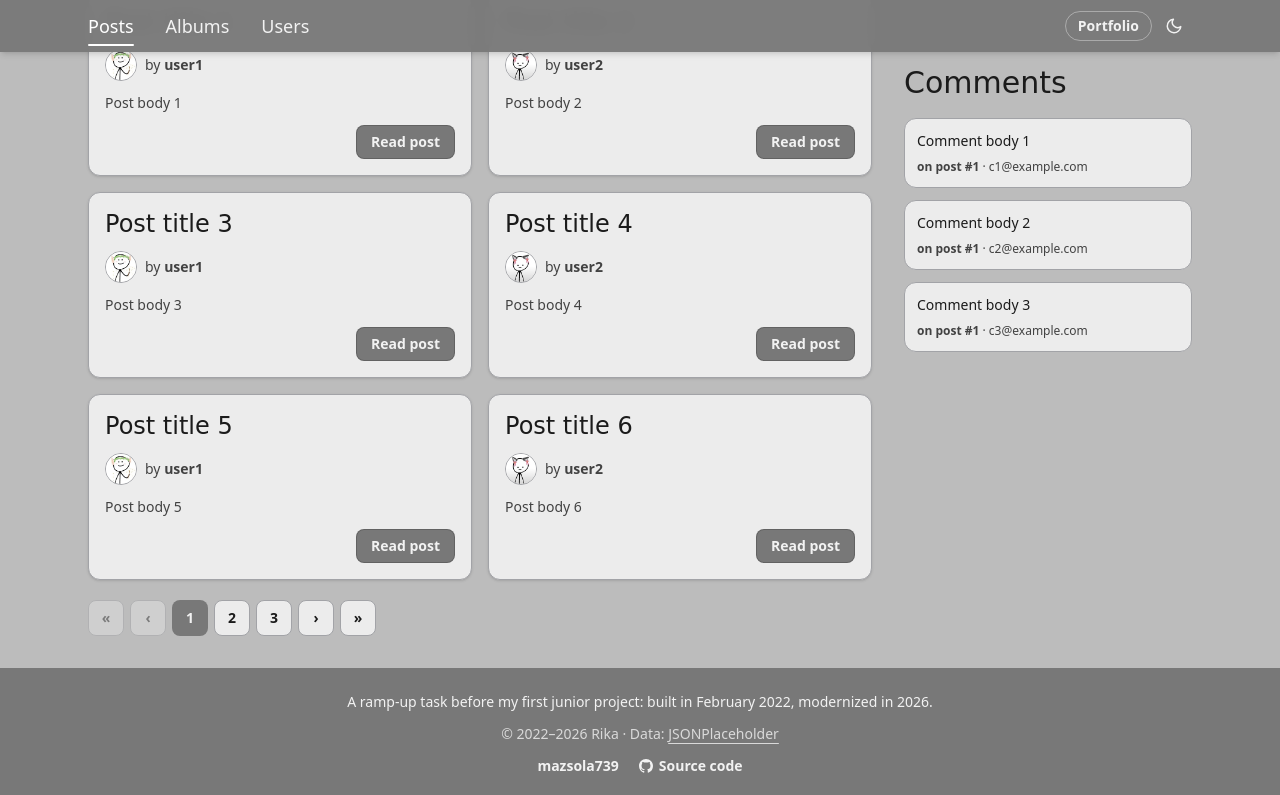
posts › opens a post with its author and its comments
The image size is (1280, 795).
(page scrolled)
Expected: the heading "post title 1" is shown, x1=105 y1=8 x2=233 y2=36
Click the link with aria-label "Read post: post title 1" at (406, 142), box x1=356 y1=125 x2=455 y2=159
(page scrolled)
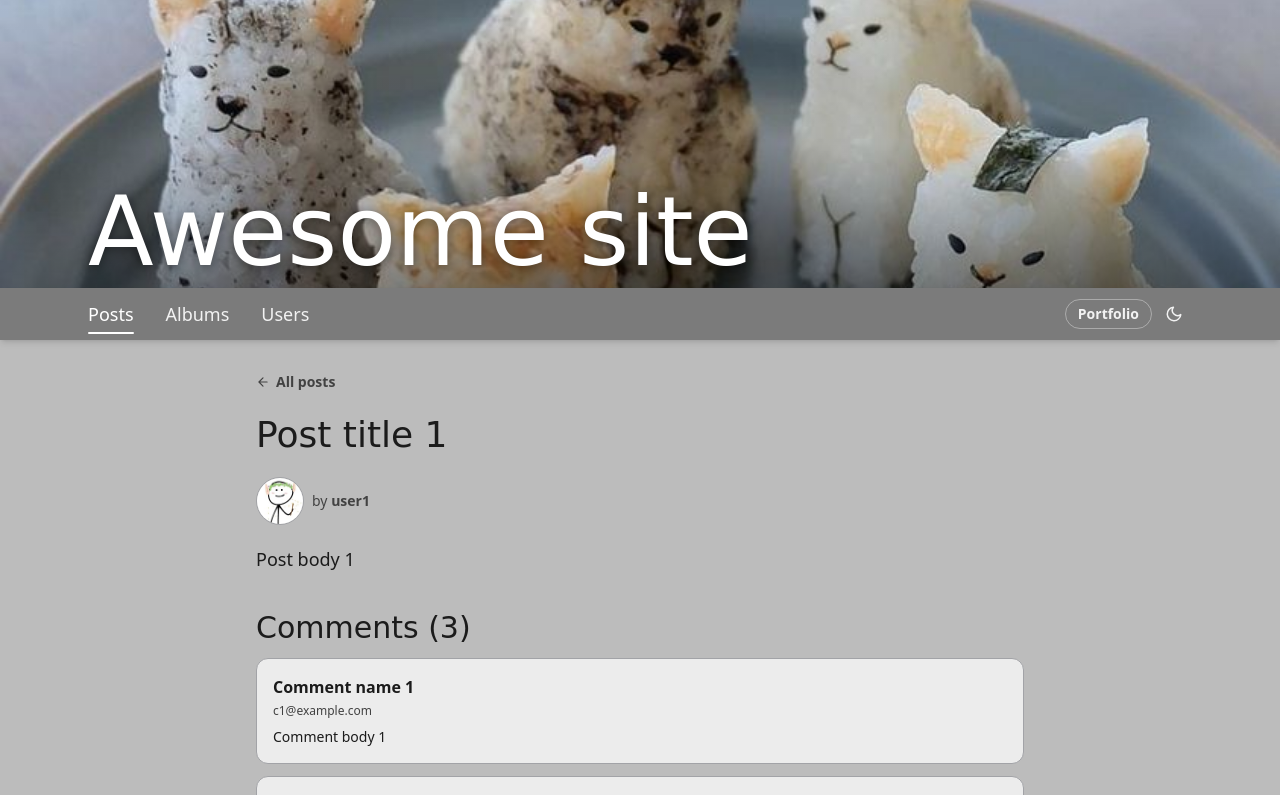
Result: the heading "post title 1" is shown at x1=256 y1=414 x2=448 y2=455
Result: the heading "Comments (3)" is shown at x1=256 y1=610 x2=471 y2=645
